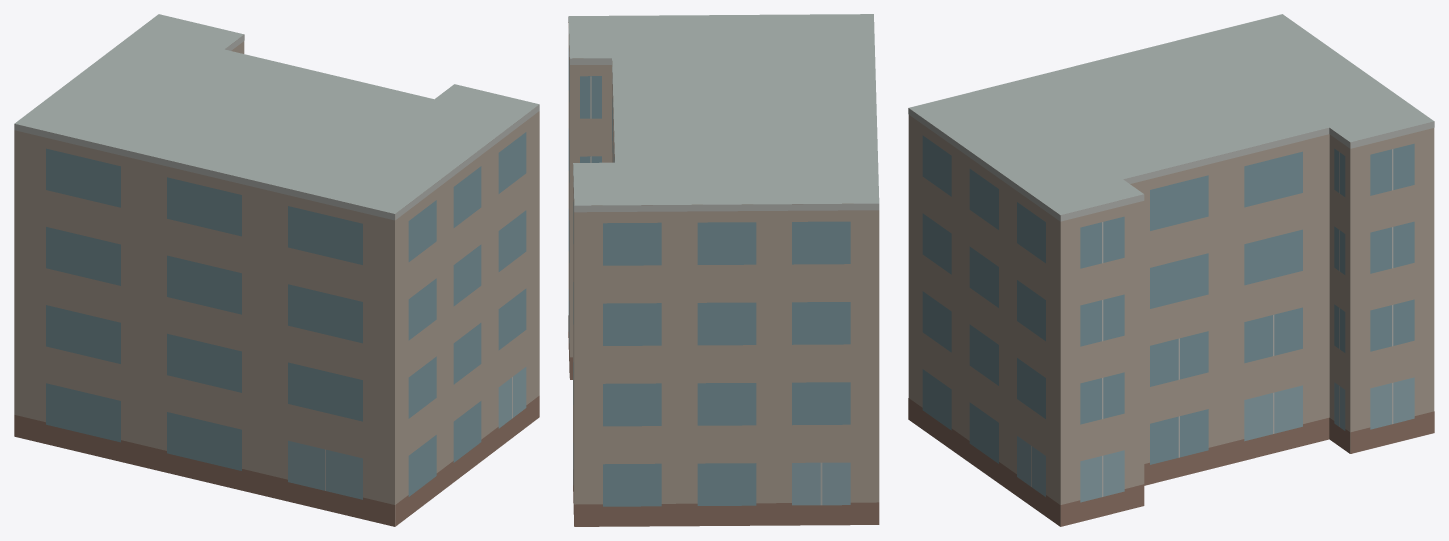
File: survey-upis-32954950.glb
The picture shows the model from 3 angles, left to right: view 1: azimuth 30°, elevation 25°; view 2: azimuth 150°, elevation 25°; view 3: azimuth 270°, elevation 25°; orthographic projection. The views are drawn at different scales.
Parts seen in each view (by area): view 1: survey-upis-32954950.tmp; view 2: survey-upis-32954950.tmp; view 3: survey-upis-32954950.tmp.
Part boxes in pixels (<box>): survey-upis-32954950.tmp: <box>14,14,539,526</box>; survey-upis-32954950.tmp: <box>568,14,879,526</box>; survey-upis-32954950.tmp: <box>908,14,1434,526</box>.
Bounding box in the file's own units: 16.28 × 11.75 × 17.98.
